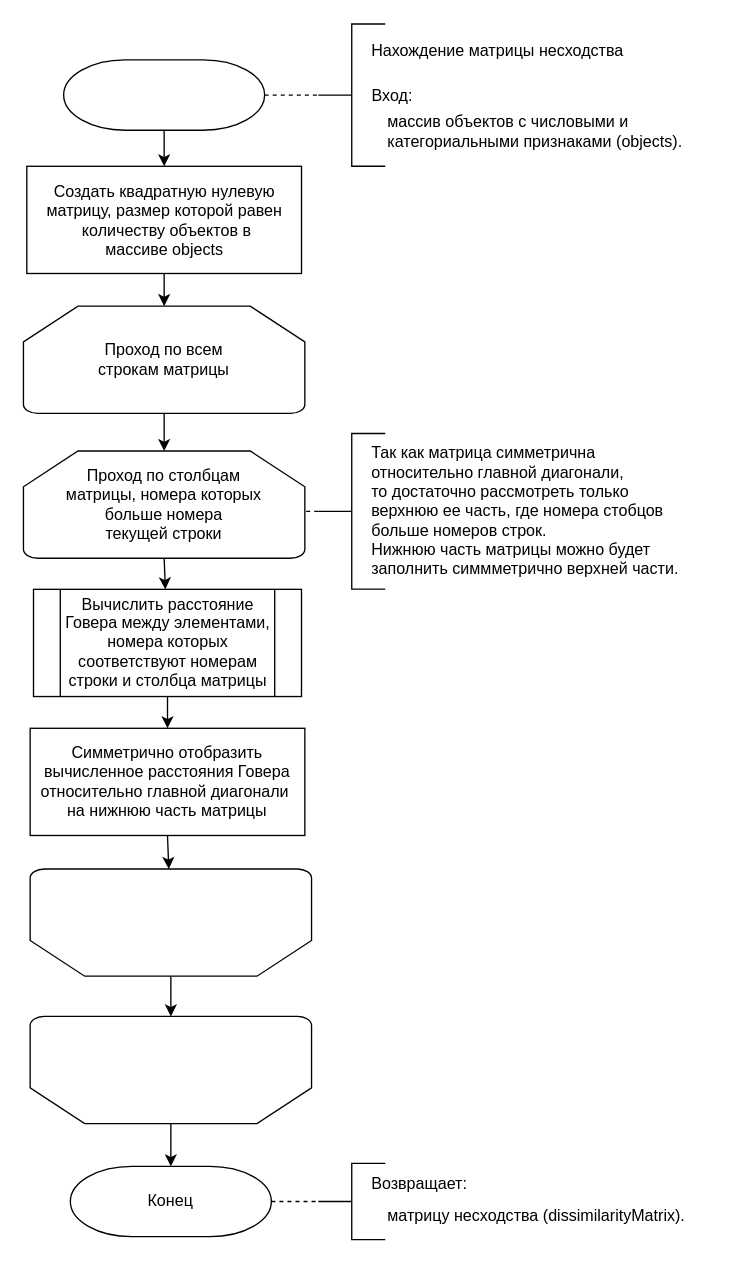
Some shapes in this 744 by 1264 pixel diagram are drawn without their labels. The box of each missing label's shape, as (x1, y1, x2, y2) in pixels:
Конец прохода по столбцам матрицы: (29, 868, 312, 976)
Конец прохода по строкам матрицы: (29, 1015, 312, 1124)
Начало: (62, 59, 265, 130)
